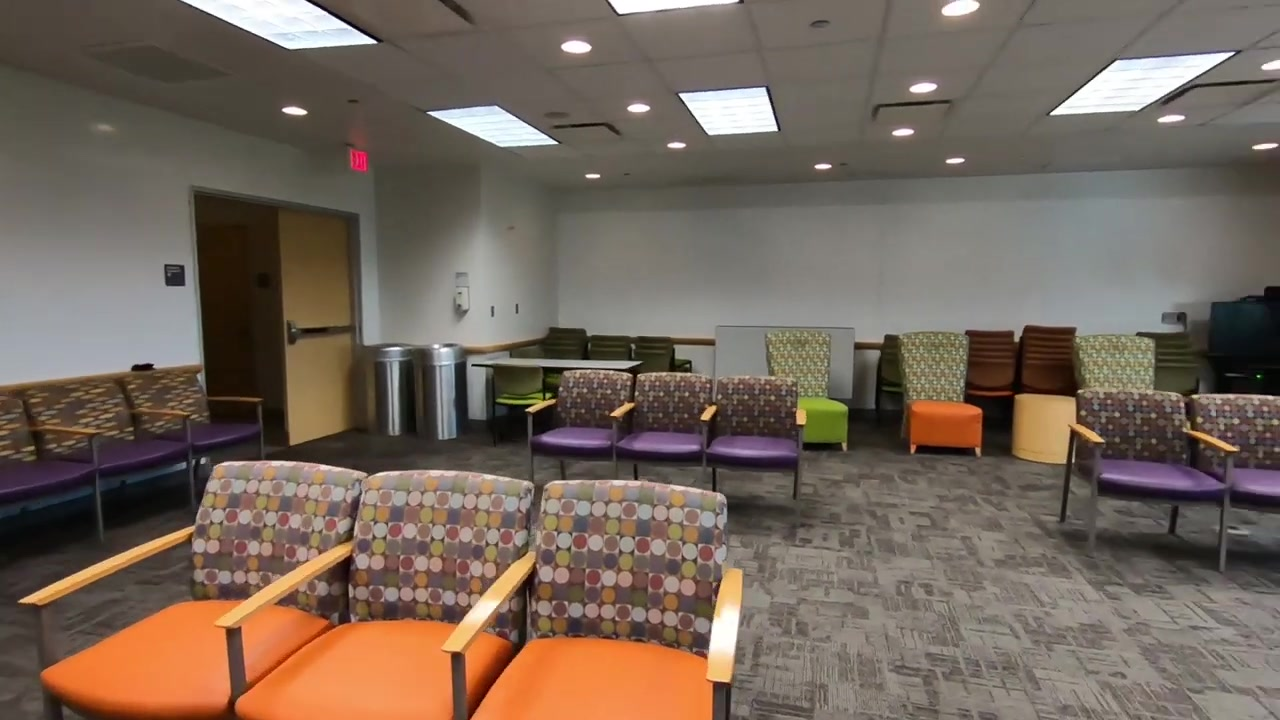chair: (16, 460, 370, 720), (212, 469, 536, 720), (443, 479, 744, 720), (1058, 387, 1241, 573), (22, 371, 199, 540), (118, 362, 265, 512), (1, 379, 106, 541), (1168, 393, 1280, 535), (700, 375, 808, 499), (524, 369, 635, 483), (610, 371, 711, 479), (490, 364, 555, 447)
dispenser: (454, 286, 471, 314)
push_latch: (288, 323, 356, 344)
sofa: (896, 331, 980, 456), (766, 329, 849, 453), (1073, 334, 1156, 390)
table: (1011, 393, 1077, 462)
waste_bin: (411, 342, 466, 440), (363, 342, 411, 436)
